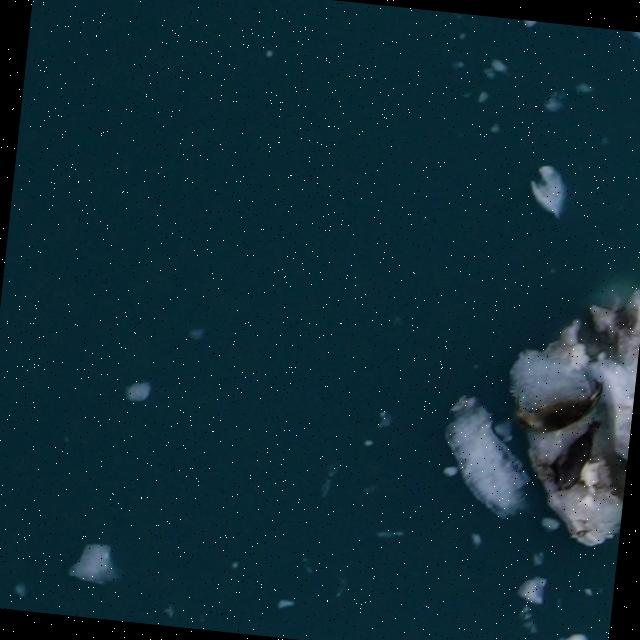seal: (511, 378, 613, 443), (542, 415, 604, 496)
